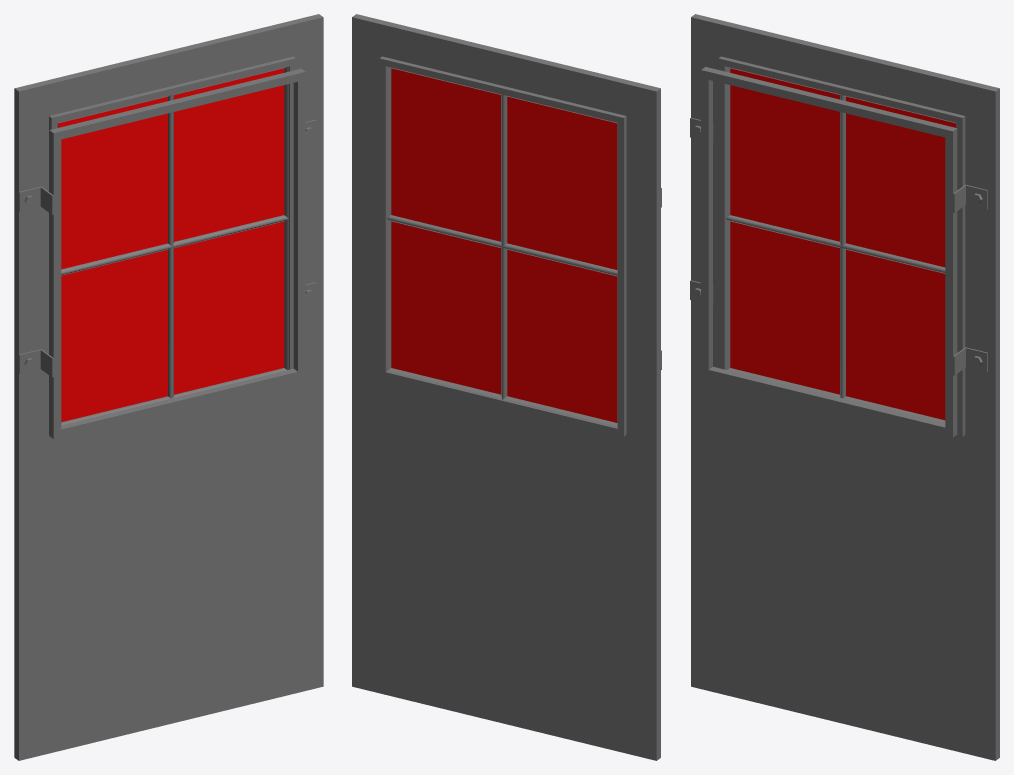
File: Door03.fbx
3 renders of one model, left to right at view 1: azimuth 30°, elevation 25°; view 2: azimuth 150°, elevation 25°; view 3: azimuth 330°, elevation 25°, orthographic.
Parts seen in each view (by area): view 1: Door03; view 2: Door03; view 3: Door03.
Part boxes in pixels (left/top/right/bottom): Door03: left=14, top=14, right=323, bottom=760; Door03: left=352, top=14, right=661, bottom=760; Door03: left=690, top=14, right=999, bottom=760.
Size of the model in its own units: 100 by 210 by 11.03.
